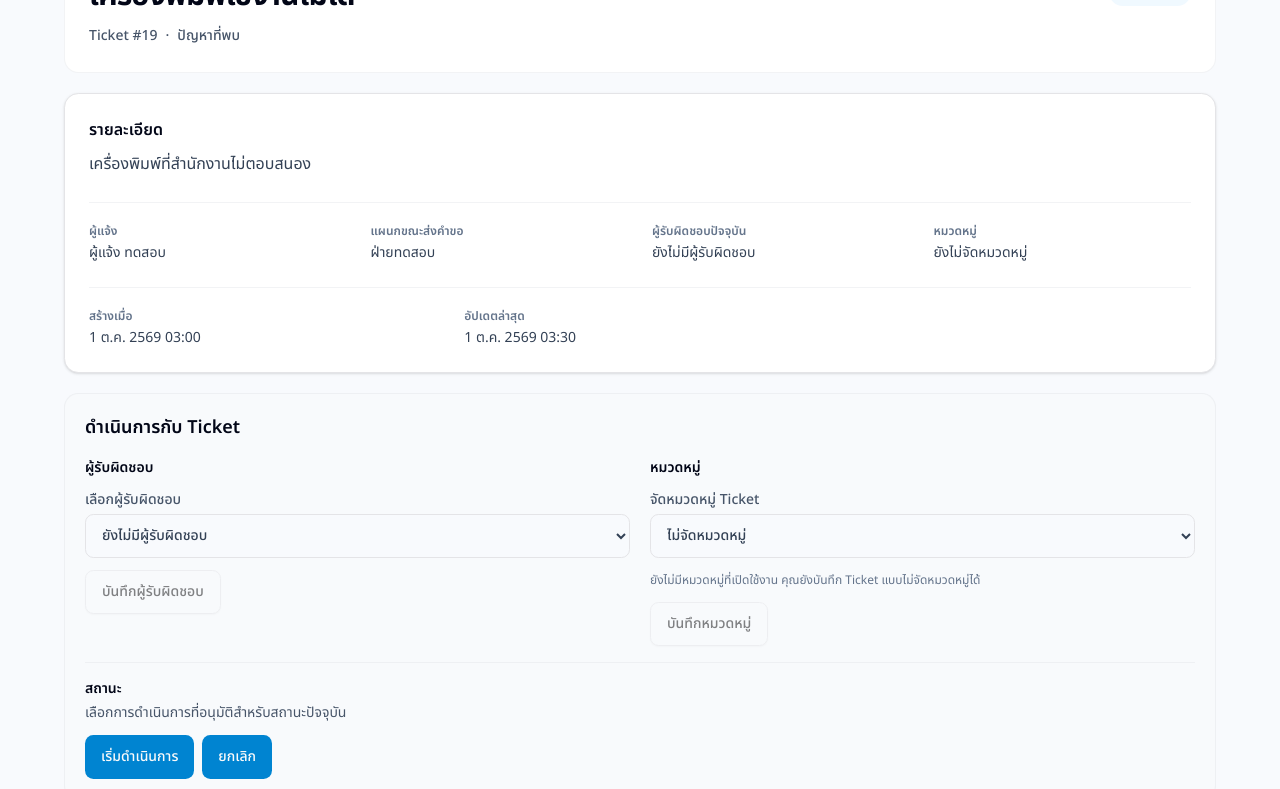
Test case: ITTicketOperatorDetail terminal transition confirmation › keeps non-terminal transitions immediate
(page scrolled)
Expected: the text "Ticket #19·ปัญหาที่พบ" is shown, [89, 24, 240, 46]
Click the button "เริ่มดำเนินการ" at (140, 756), box [85, 734, 194, 778]
(page scrolled)
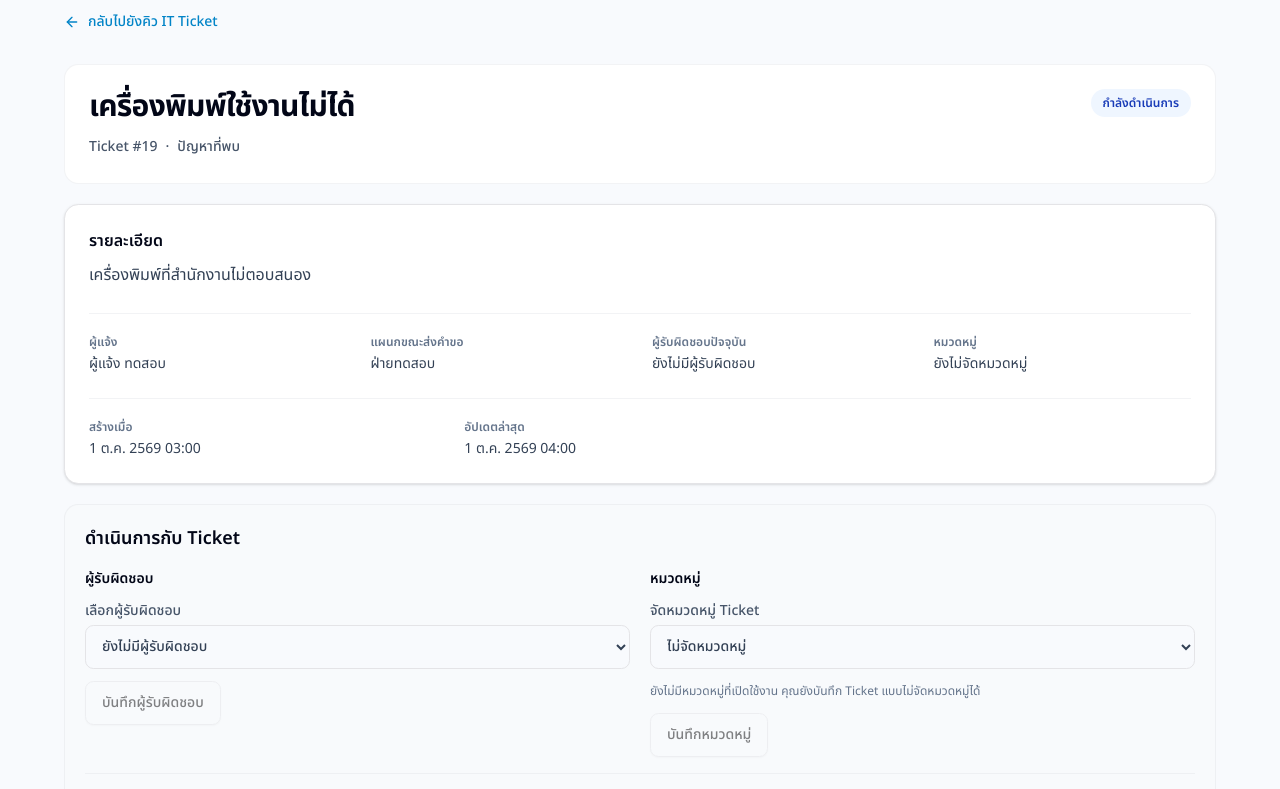
Expected: the text "กำลังดำเนินการ" is shown, [1091, 89, 1191, 117]
